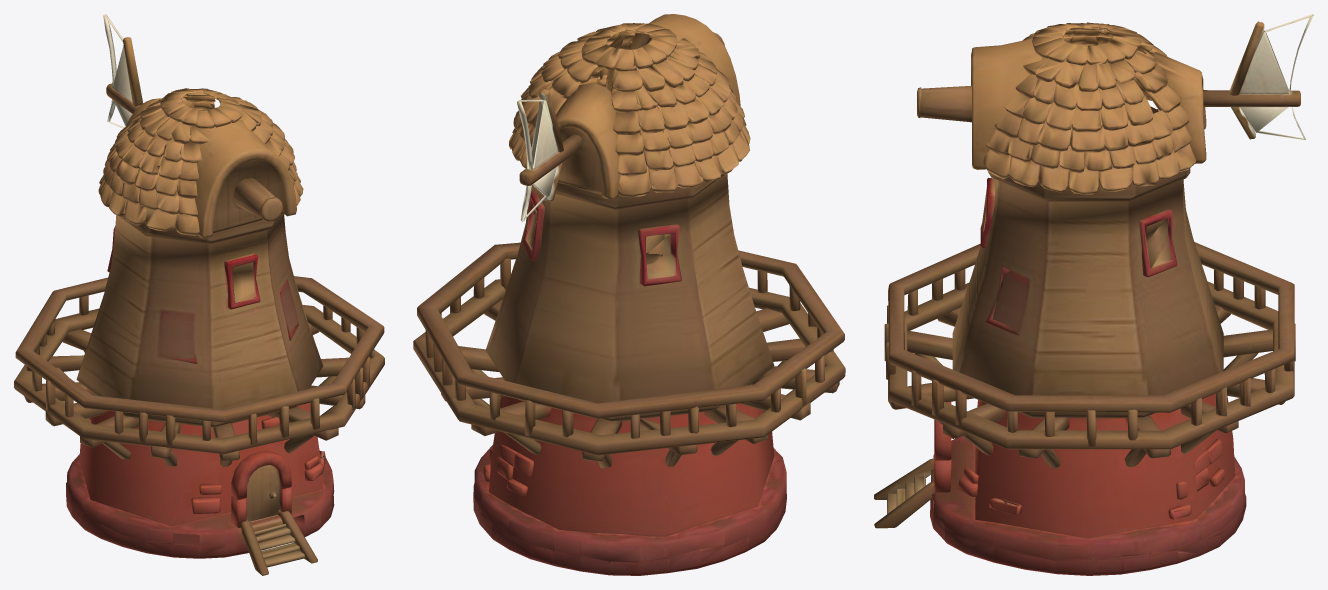
Rendered from windmill_tower.glb.
3 views of the same model, side by side, from view 1: azimuth 30°, elevation 25°; view 2: azimuth 150°, elevation 25°; view 3: azimuth 270°, elevation 25° (orthographic). The views are drawn at different scales.
Visible parts, largest first — view 1: tripo_node_b646ef69-749f-4d1a-8691-068007f4c2c9; view 2: tripo_node_b646ef69-749f-4d1a-8691-068007f4c2c9; view 3: tripo_node_b646ef69-749f-4d1a-8691-068007f4c2c9.
Part boxes in pixels (x1,y1,x2,y2): tripo_node_b646ef69-749f-4d1a-8691-068007f4c2c9: (14,14,384,575); tripo_node_b646ef69-749f-4d1a-8691-068007f4c2c9: (413,14,845,575); tripo_node_b646ef69-749f-4d1a-8691-068007f4c2c9: (874,14,1313,575).
Bounding box in the file's own units: 0.752 × 0.998 × 0.7988.
Materials: 1 (1 with a texture image).
